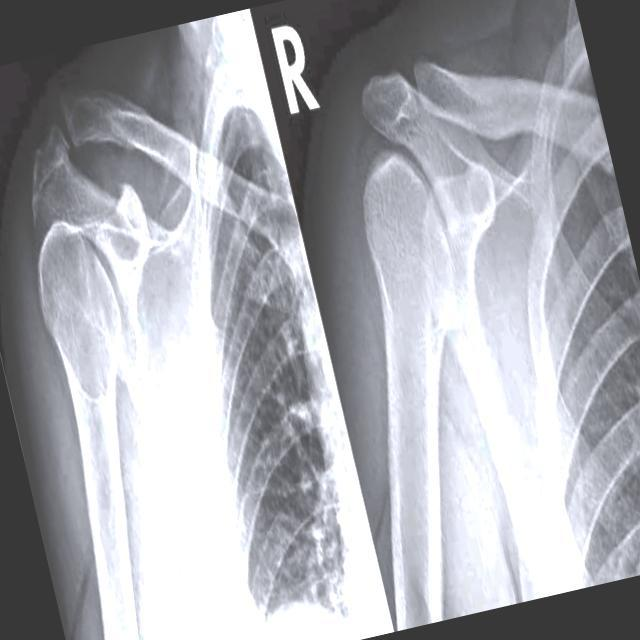Fracture Dislocation: (355, 54, 487, 152)
